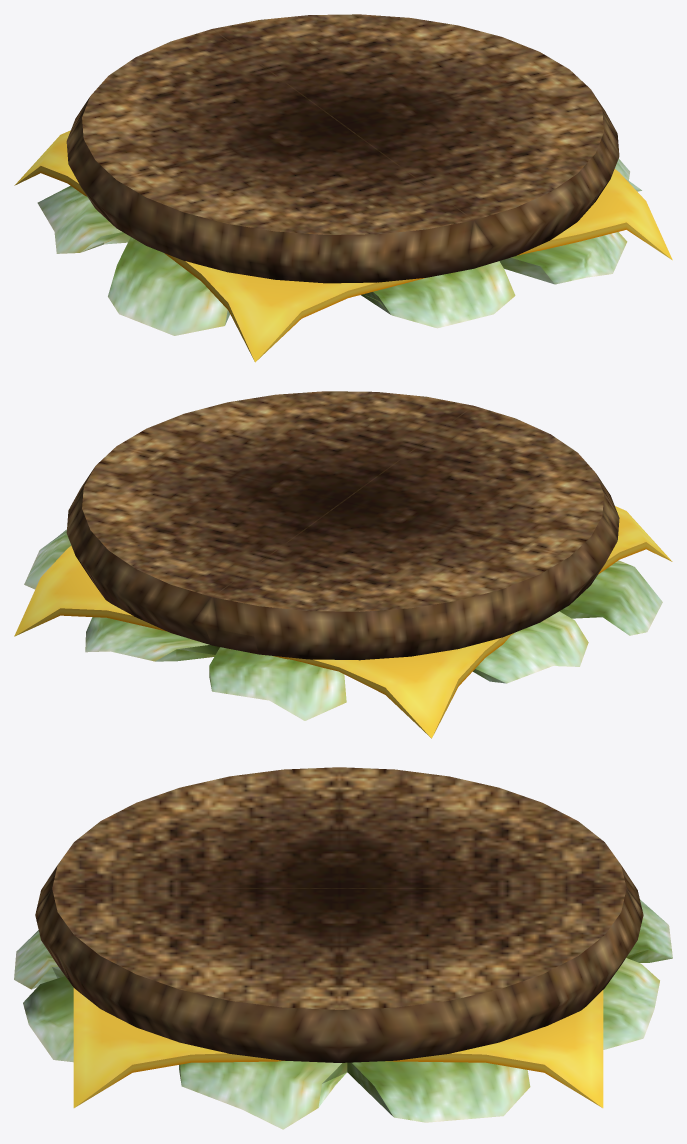
3 renders of one model, top to bottom at view 1: azimuth 30°, elevation 25°; view 2: azimuth 150°, elevation 25°; view 3: azimuth 270°, elevation 25°, orthographic. The views are drawn at different scales.
Parts seen in each view (by area): view 1: polygon0; view 2: polygon0; view 3: polygon0.
Part boxes in pixels (x1=…): polygon0: x1=14, y1=14, x2=672, y2=362; polygon0: x1=14, y1=391, x2=672, y2=738; polygon0: x1=14, y1=767, x2=672, y2=1129.
Bounding box in the file's own units: 3.78 × 0.6729 × 3.72.
1 material, 1 textured.
